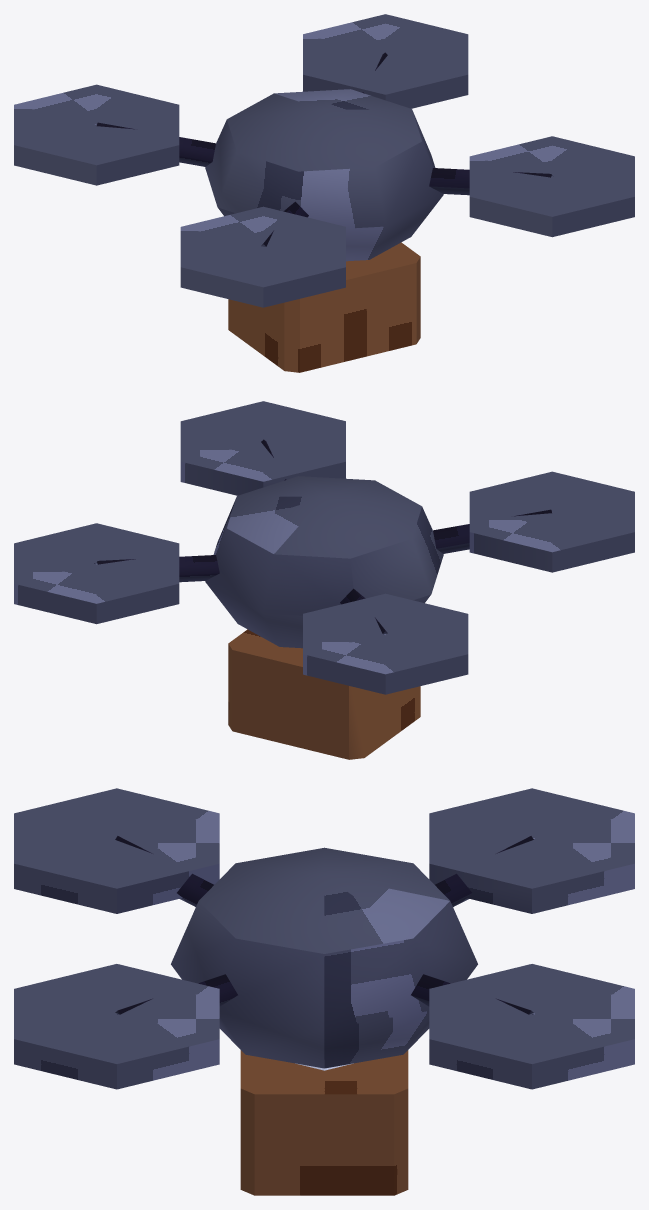
The model's file is cytech.drone.glb.
3 views of the same model, one above another, from view 1: azimuth 30°, elevation 25°; view 2: azimuth 150°, elevation 25°; view 3: azimuth 270°, elevation 25° (orthographic). The views are drawn at different scales.
Visible parts, largest first — view 1: kit_drone; view 2: kit_drone; view 3: kit_drone.
Boxes of the visible parts, left/top/right/bottom form: kit_drone: left=14, top=14, right=634, bottom=372; kit_drone: left=14, top=401, right=634, bottom=759; kit_drone: left=14, top=788, right=634, bottom=1195.
Bounding box in the file's own units: 0.934 × 0.44 × 0.8884.
Materials: 5 (5 with a texture image).
